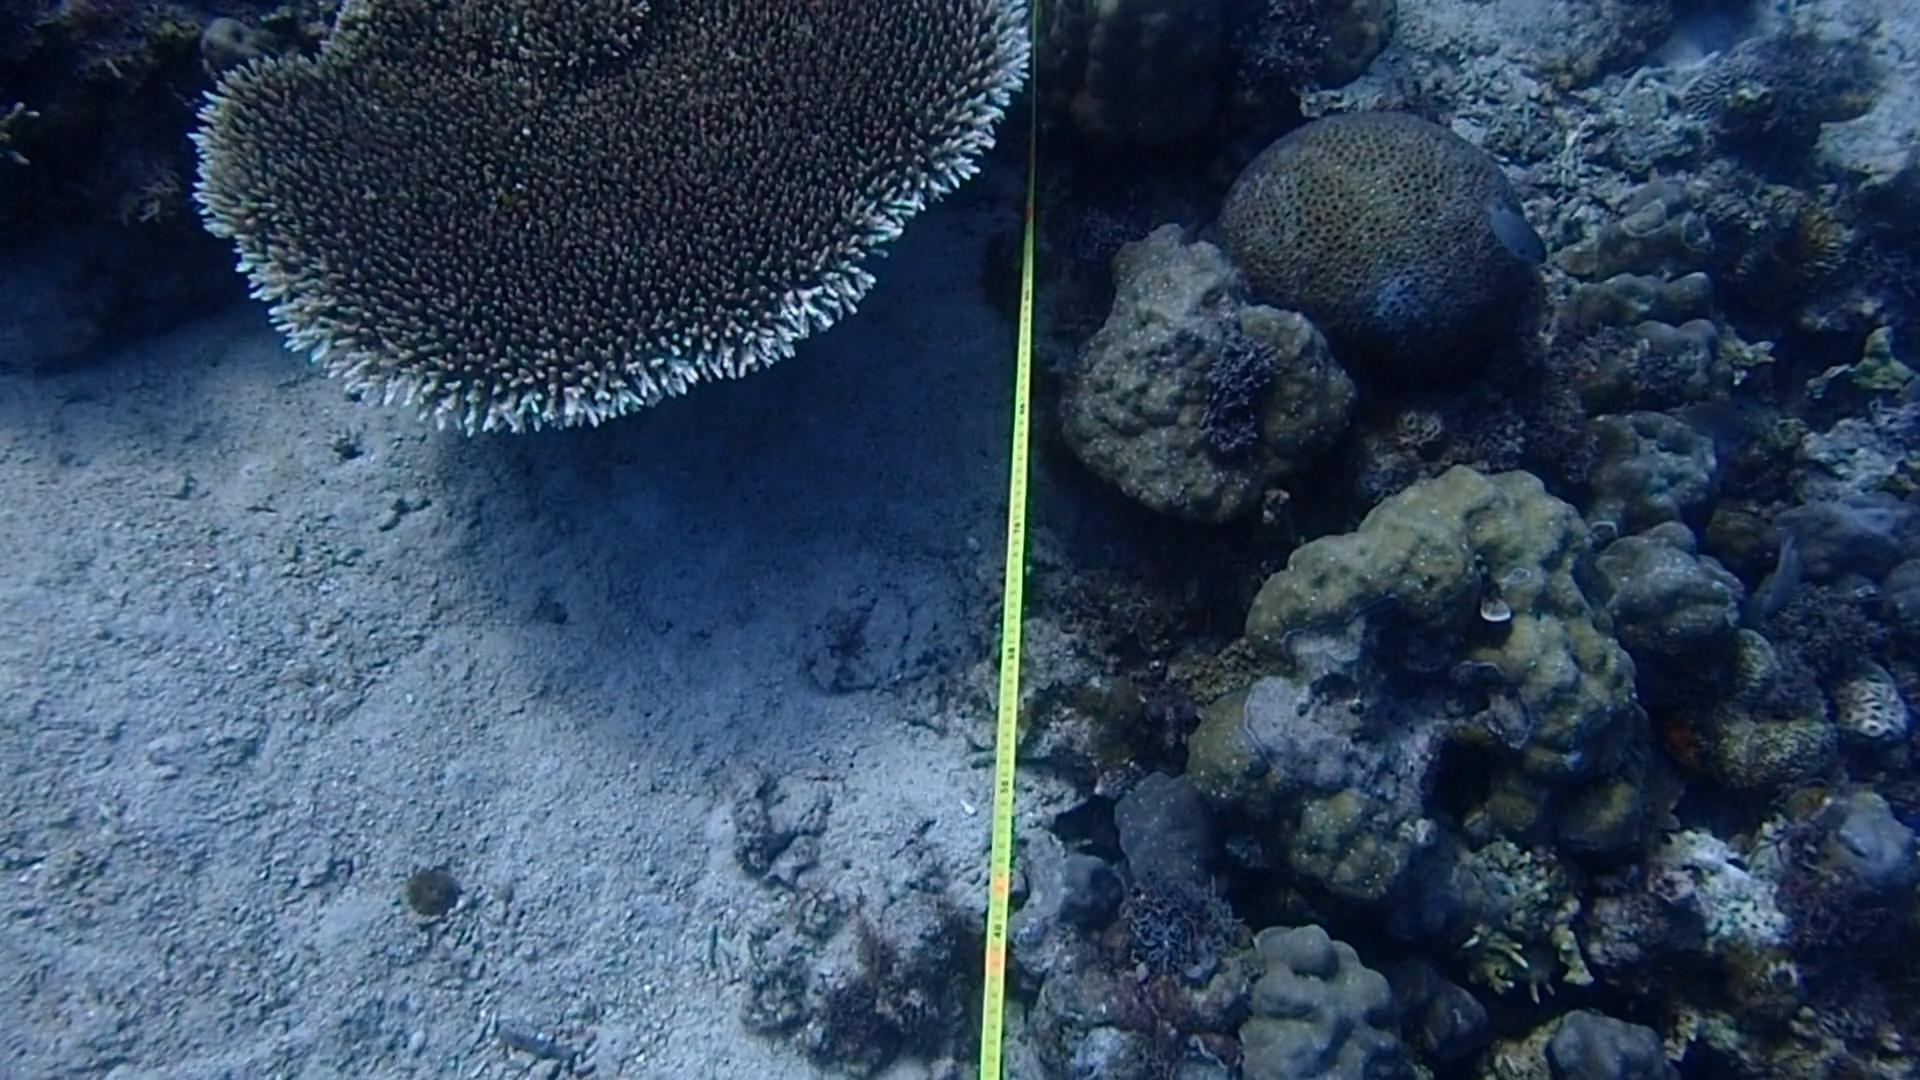Light Fish: (1741, 526, 1813, 625), (1474, 185, 1553, 266)
